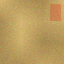vehicle: (49, 3, 60, 20)
